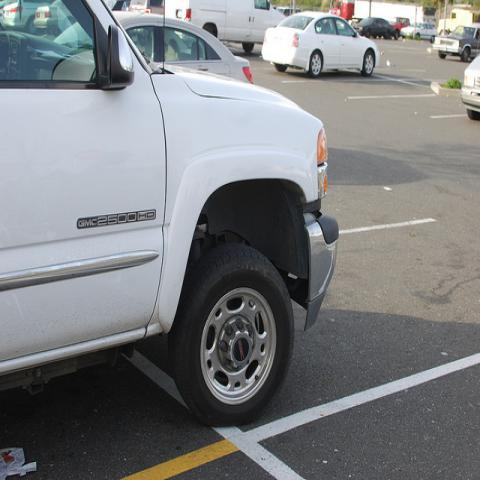car: (116, 14, 255, 84), (261, 10, 380, 78), (190, 1, 286, 48), (431, 19, 479, 61), (460, 52, 479, 121), (352, 17, 396, 39), (400, 22, 438, 42)
truck: (1, 0, 339, 424), (388, 17, 409, 39)
